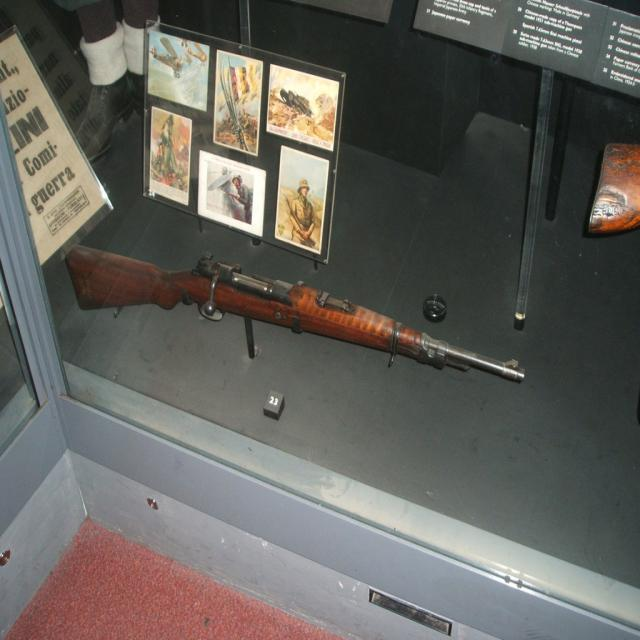weapon: (62, 249, 520, 386), (280, 187, 316, 250), (224, 188, 241, 206)
